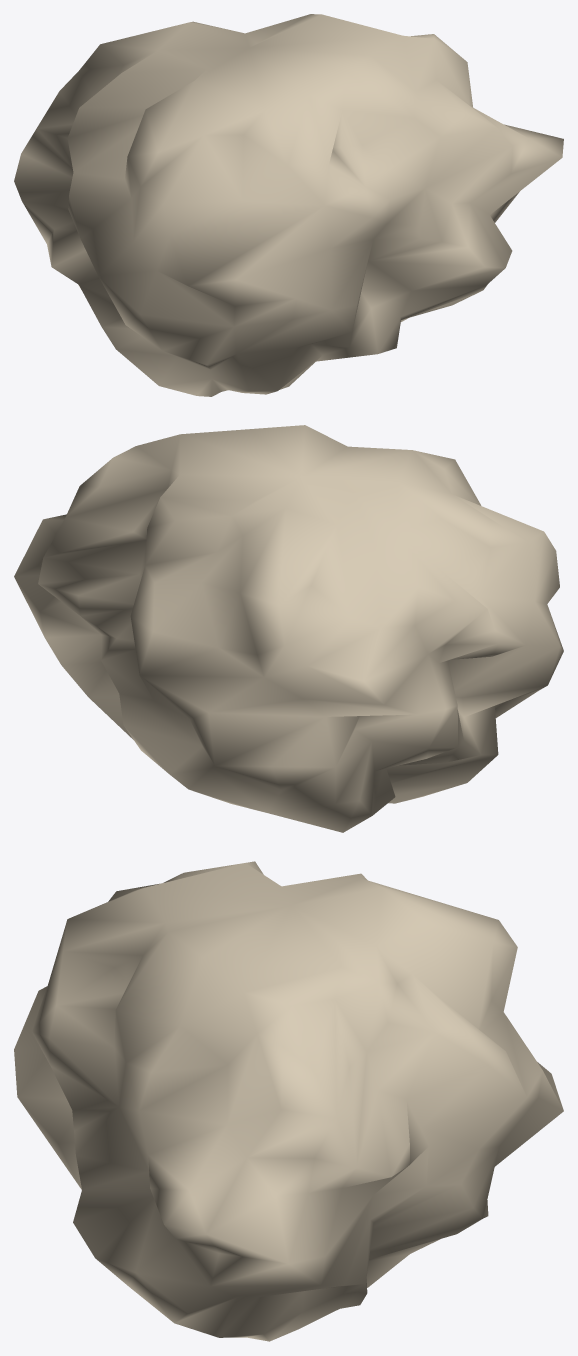
File: rock2-lod1.glb
3 views of the same model, one above another, from view 1: azimuth 30°, elevation 25°; view 2: azimuth 150°, elevation 25°; view 3: azimuth 270°, elevation 25° (orthographic). The views are drawn at different scales.
Parts seen in each view (by area): view 1: rock2_rock; view 2: rock2_rock; view 3: rock2_rock.
Part boxes in pixels (<box>): rock2_rock: <box>14,14,563,396</box>; rock2_rock: <box>14,425,563,832</box>; rock2_rock: <box>14,861,563,1341</box>.
Size of the model in its own units: 2.34 by 1.49 by 1.92.
